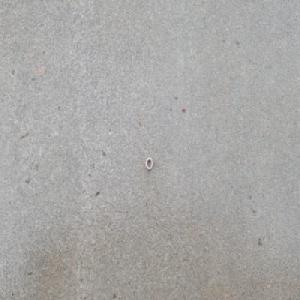Nut: (144, 156, 153, 170)
